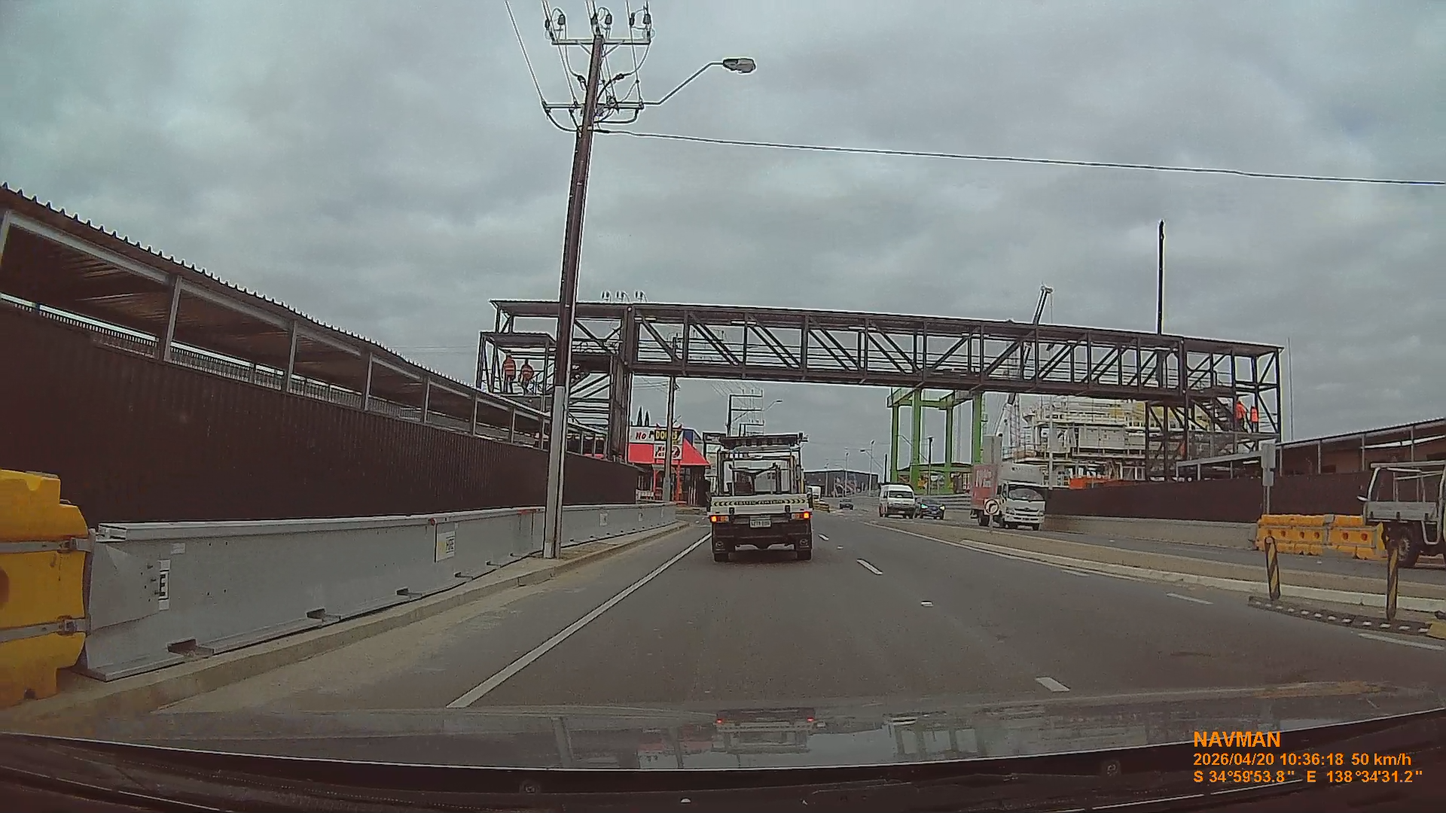fences: (0, 304, 548, 523), (914, 492, 972, 519)
road barriers: (81, 510, 542, 679), (0, 470, 87, 707), (1255, 515, 1384, 560)
